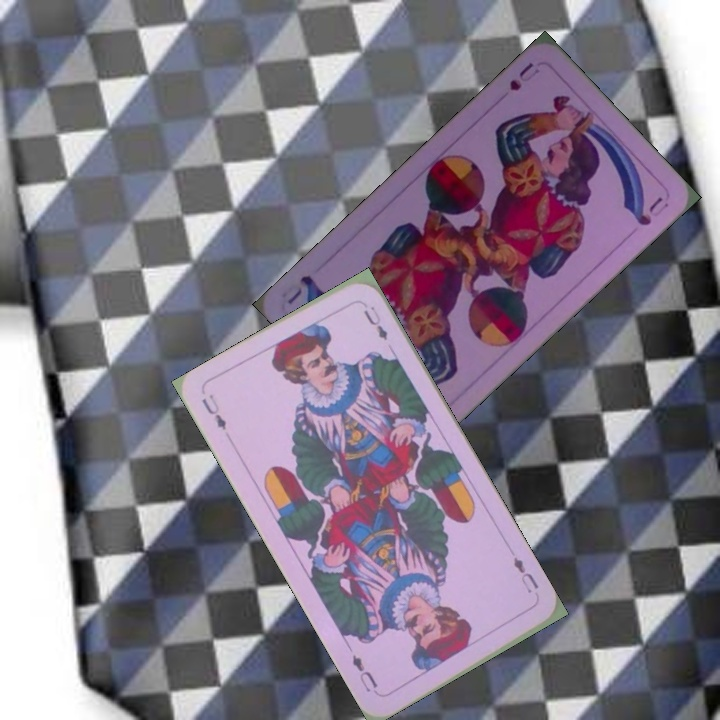EU: (509, 552, 542, 602), (197, 389, 229, 433)
SU: (505, 58, 543, 94)
